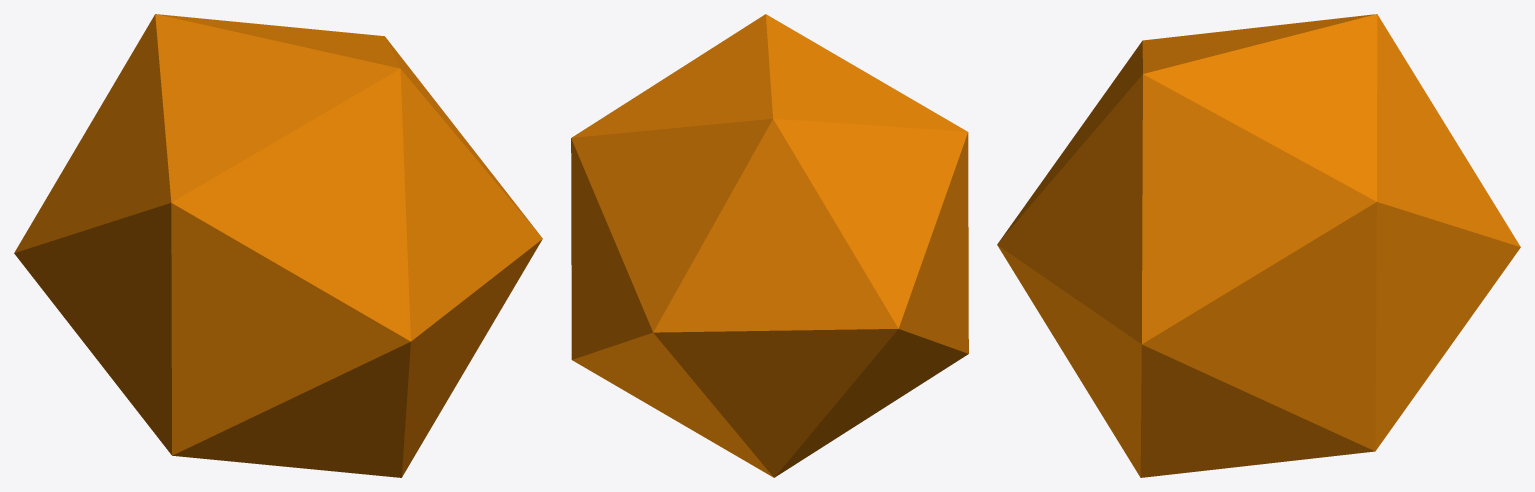
File: warn.glb
3 views of the same model, side by side, from view 1: azimuth 30°, elevation 25°; view 2: azimuth 150°, elevation 25°; view 3: azimuth 270°, elevation 25° (orthographic). The views are drawn at different scales.
Parts seen in each view (by area): view 1: Icosphere; view 2: Icosphere; view 3: Icosphere.
Part boxes in pixels (left/top/right/bottom): Icosphere: left=14, top=14, right=542, bottom=477; Icosphere: left=571, top=14, right=968, bottom=477; Icosphere: left=997, top=14, right=1520, bottom=477.
Size of the model in its own units: 1.06 by 1.01 by 1.18.
